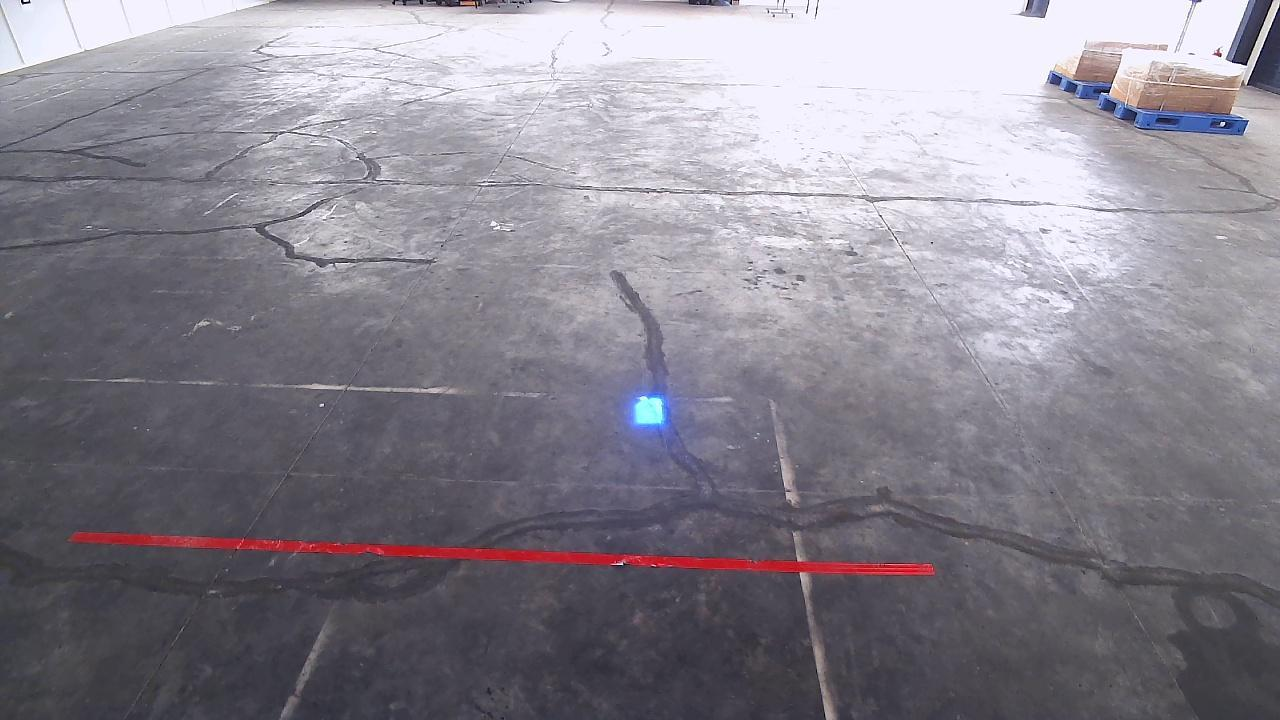red_line: (64, 532, 939, 573)
